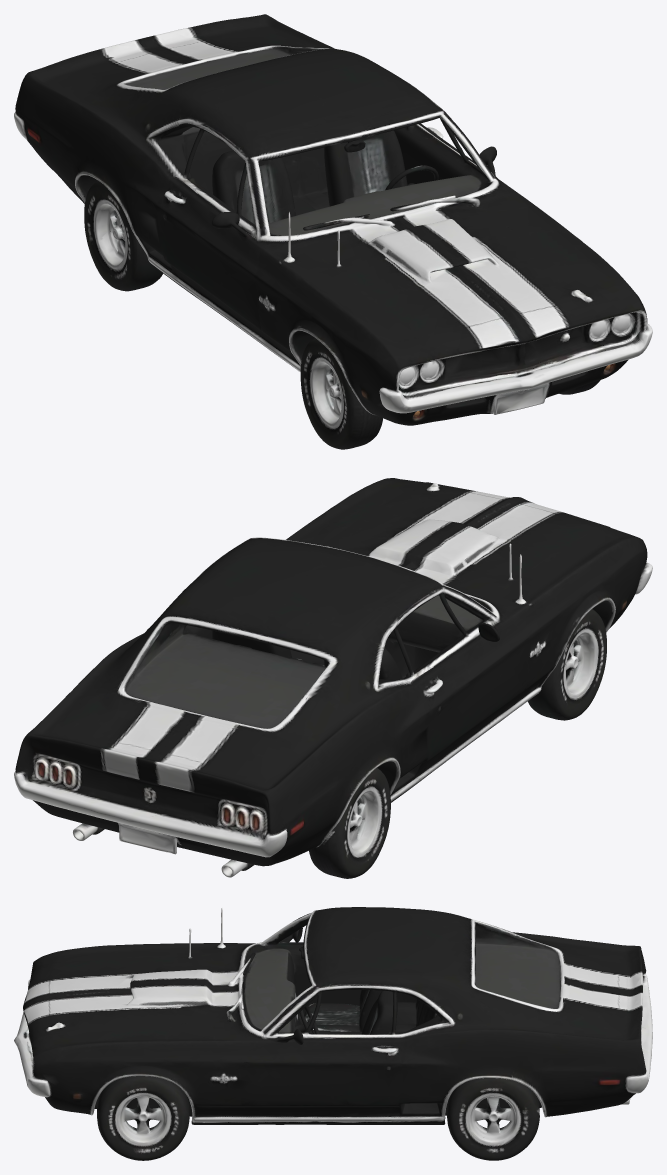
The model's file is 072_muscle_black_60s.glb.
3 renders of one model, top to bottom at view 1: azimuth 30°, elevation 25°; view 2: azimuth 150°, elevation 25°; view 3: azimuth 270°, elevation 25°, orthographic. The views are drawn at different scales.
Visible parts, largest first — view 1: geometry_0; view 2: geometry_0; view 3: geometry_0.
Boxes of the visible parts, <box> form: geometry_0: <box>14,14,652,449</box>; geometry_0: <box>14,478,652,878</box>; geometry_0: <box>14,907,652,1160</box>.
Bounding box in the file's own units: 2.17 × 1.57 × 5.2.
Materials: 1 (1 with a texture image).
